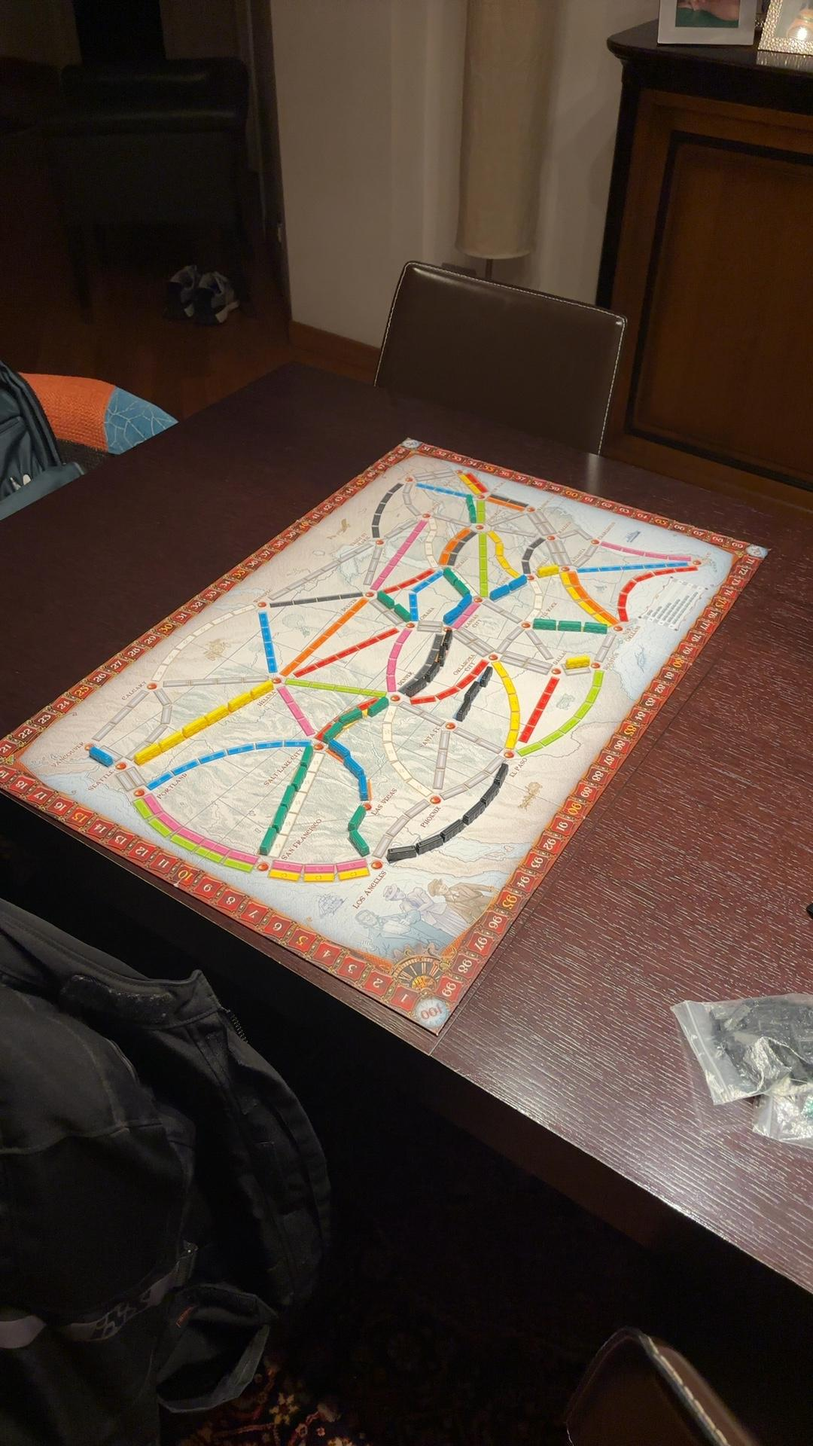black_train: (410, 833, 445, 856), (463, 795, 486, 824), (387, 845, 416, 863), (443, 820, 464, 841), (493, 763, 507, 786)
blue_train: (90, 746, 113, 765), (360, 774, 370, 801)
green_train: (349, 828, 369, 856), (259, 825, 277, 855), (367, 697, 388, 716), (292, 763, 306, 791), (349, 805, 364, 830), (342, 708, 362, 726), (282, 784, 295, 806), (325, 723, 340, 740), (582, 623, 607, 633), (557, 621, 582, 630), (302, 745, 312, 767), (534, 620, 555, 628)
yellow_train: (135, 743, 161, 763), (183, 719, 206, 737), (565, 654, 590, 669), (537, 564, 559, 578)
